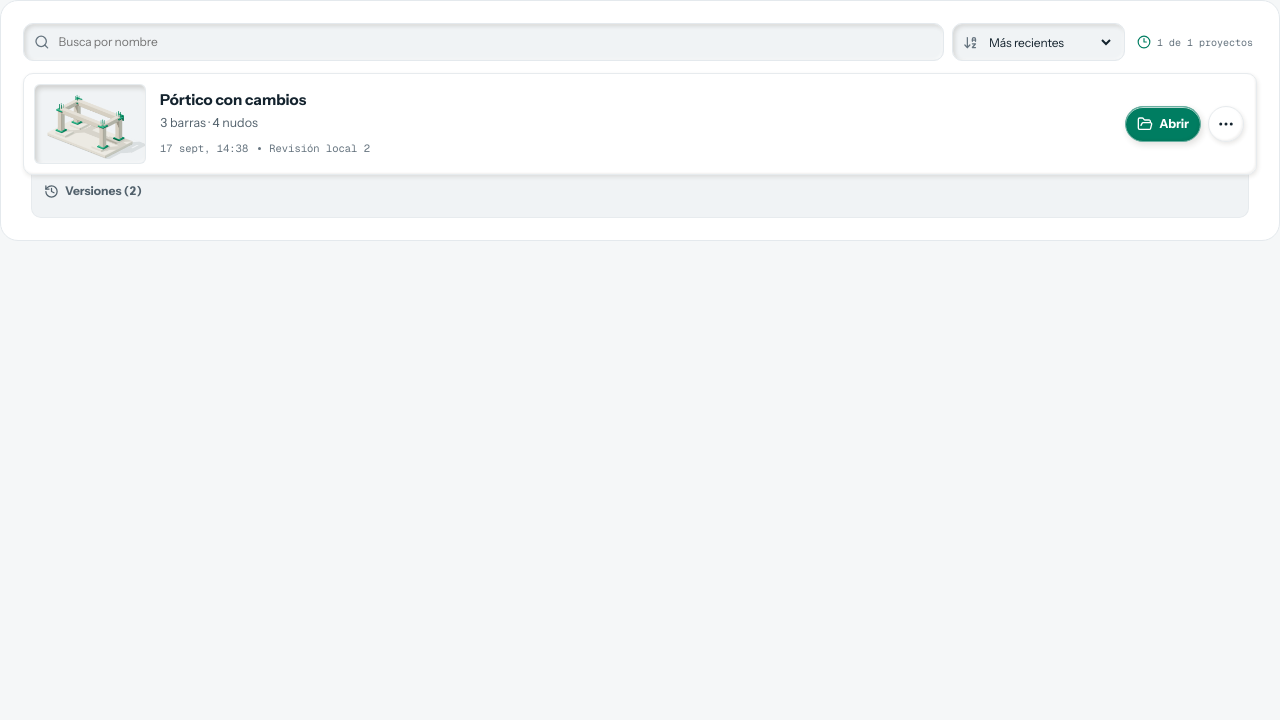
Test: ProjectHub › groups a named-version diff by entity and exposes the changed fields
Check: the text "Pórtico con cambios" is shown, box [160, 90, 306, 109]
Click the heading "Versiones (2)": (93, 191) [44, 183, 142, 198]
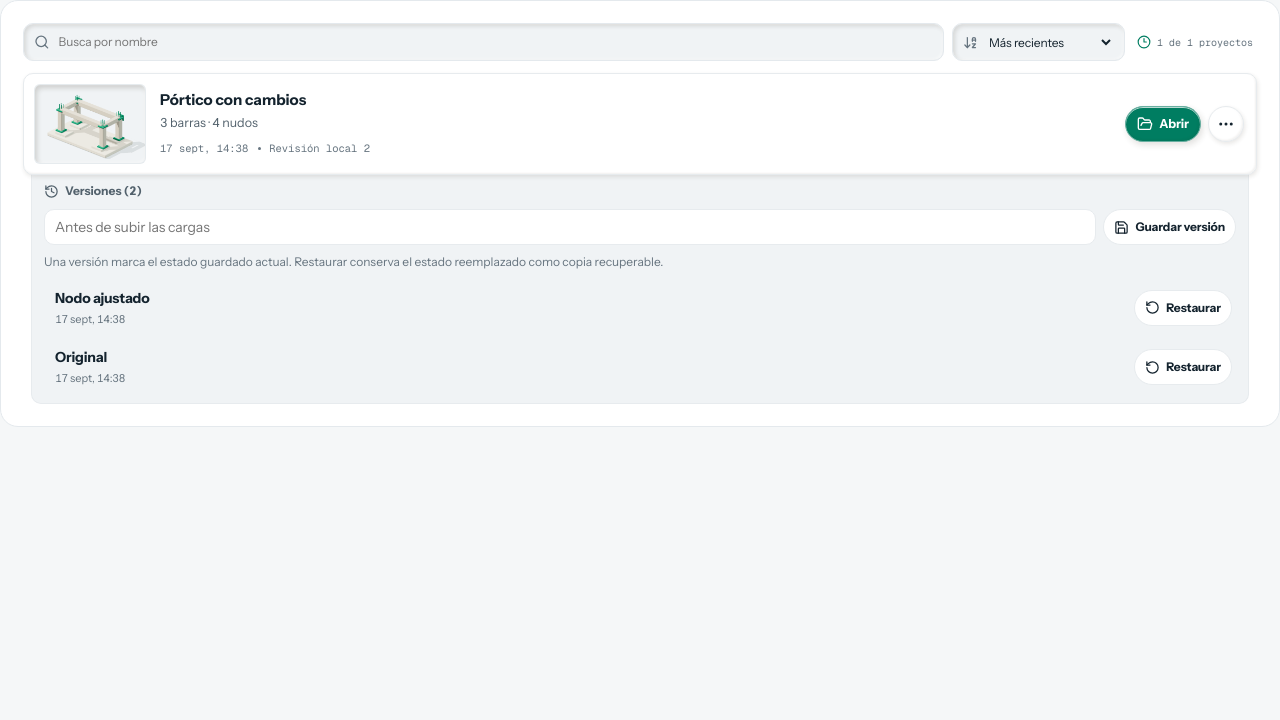
Click the button "Original 17 sept, 14:38": (81, 357) [48, 343, 1127, 391]
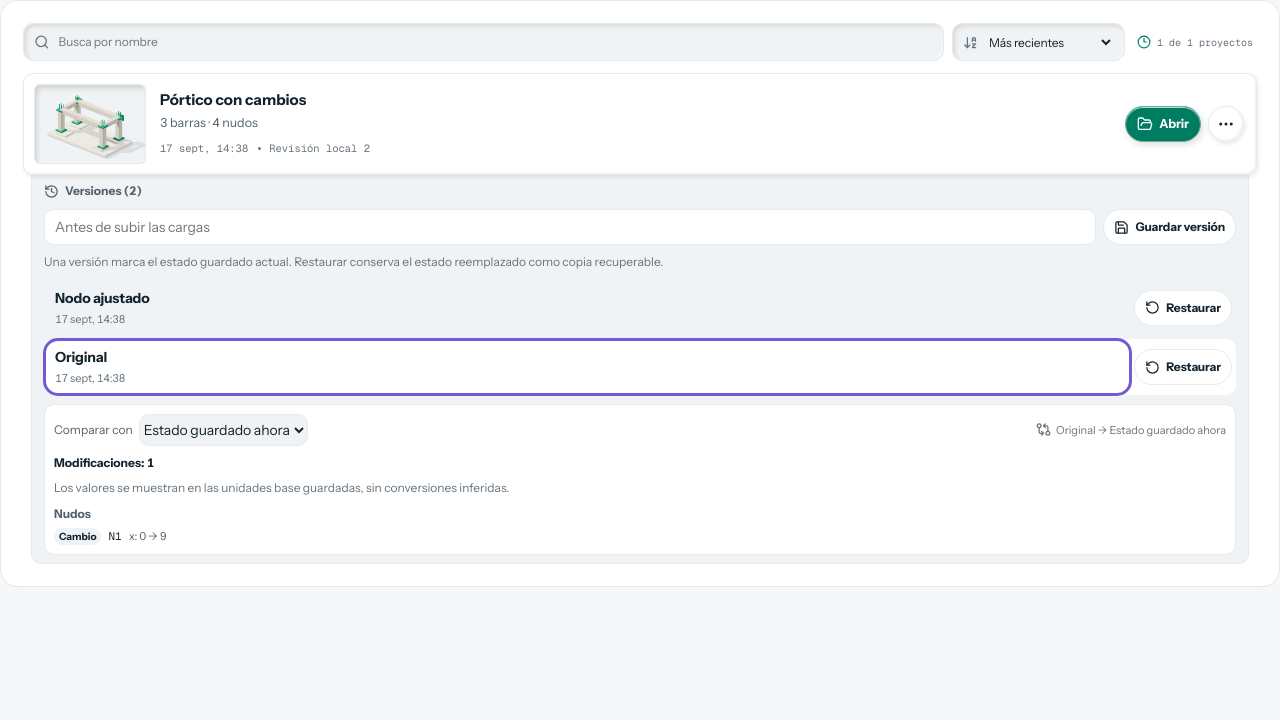
Check: the heading "Nudos" is shown, box [54, 506, 91, 521]
Check: the text "x: 0 → 9" is shown, box [129, 528, 167, 545]
Check: the text "Modificaciones: 1" is shown, box [54, 455, 154, 470]
